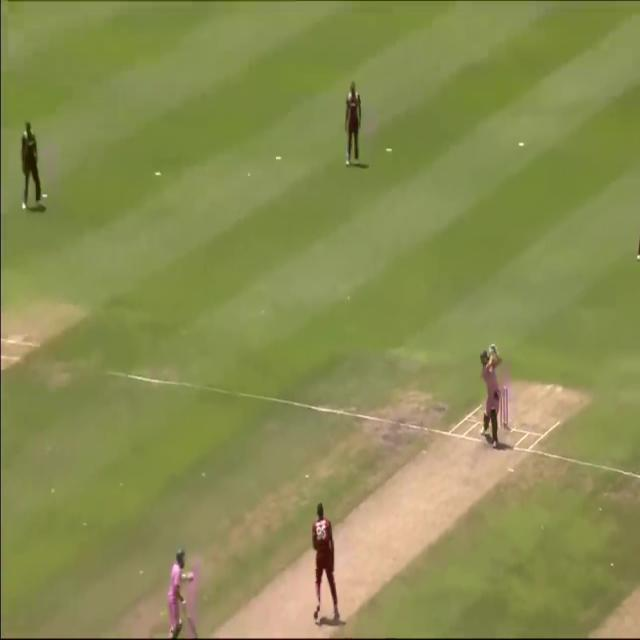Ball: (460, 340, 519, 448), (155, 540, 201, 639)
Fielder: (289, 497, 352, 625), (14, 119, 45, 212), (343, 82, 364, 165)
